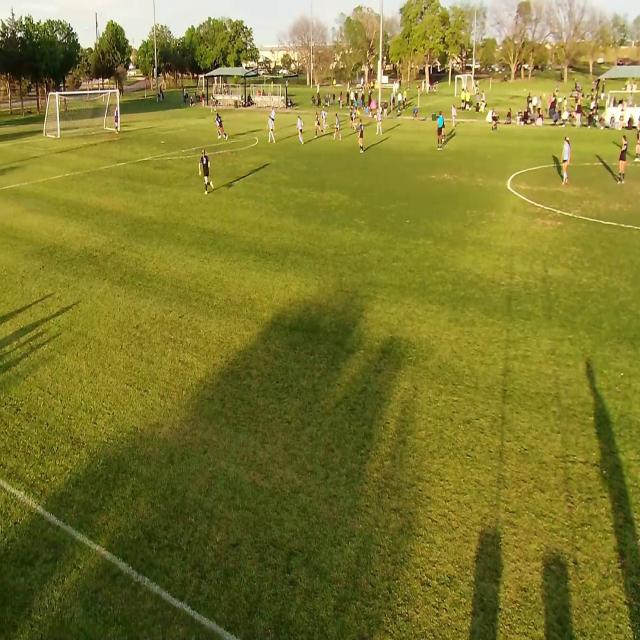ball: (315, 121, 317, 127)
team1: (200, 150, 214, 194), (619, 133, 630, 181), (215, 113, 227, 141), (359, 120, 366, 154), (634, 124, 640, 162), (335, 114, 342, 141), (491, 109, 498, 136), (442, 112, 447, 147), (314, 112, 320, 140), (349, 108, 352, 127)
team2: (563, 139, 574, 185), (451, 104, 458, 136), (376, 107, 383, 138), (268, 116, 275, 144), (321, 109, 330, 130), (298, 116, 304, 144), (352, 111, 358, 131), (272, 105, 276, 121)
